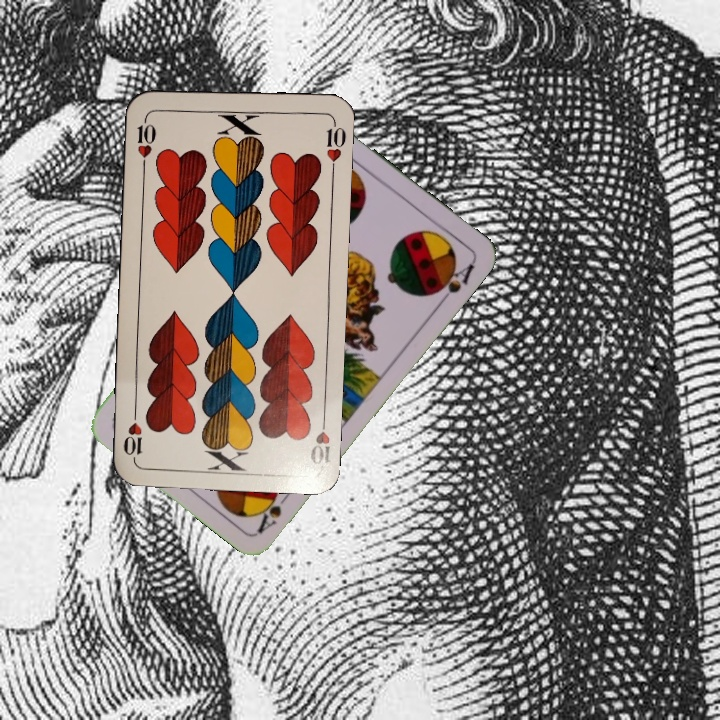H10: (305, 409, 333, 468), (133, 112, 159, 171)
SA: (254, 484, 296, 535)
